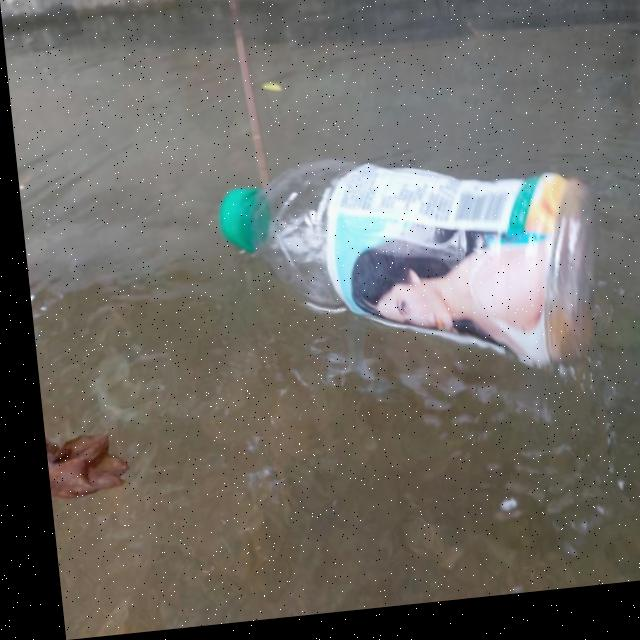leaf: (33, 397, 132, 531)
waterbottle: (201, 142, 623, 412)
